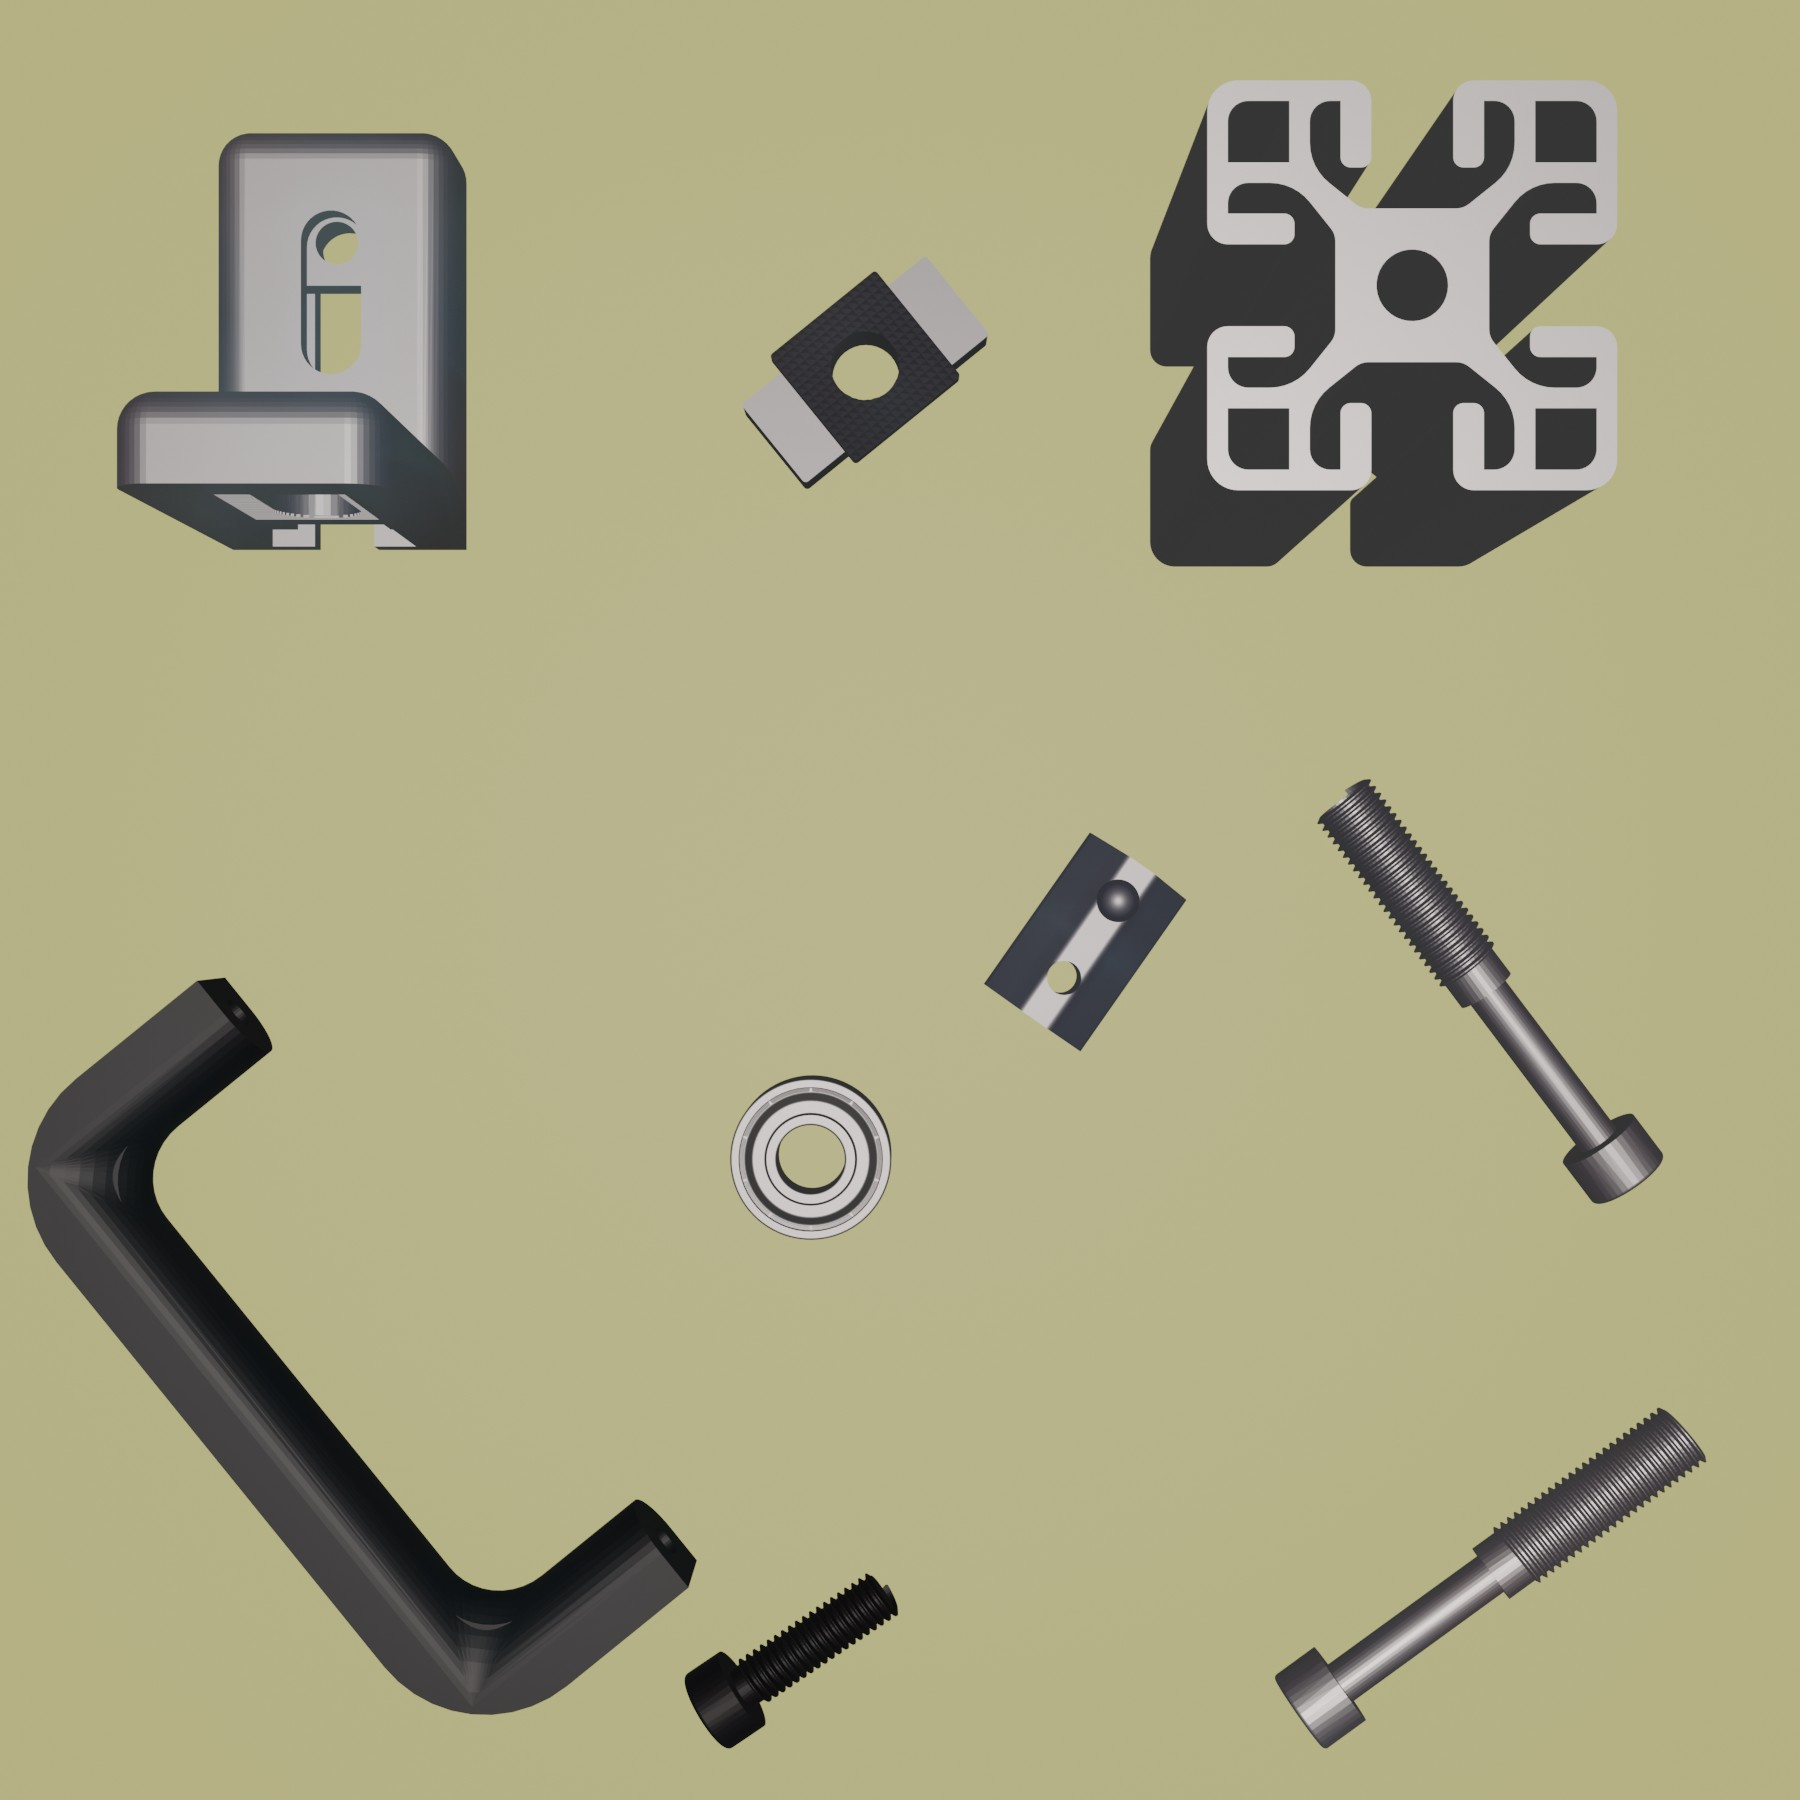Aluminium Extension: (1142, 74, 1624, 572)
Ball Bearing: (729, 1073, 893, 1241)
Multiwinkel: (114, 125, 475, 555)
Pull Handle: (25, 974, 697, 1714)
Shoulder Socket Head Cap Screw: (1273, 1404, 1709, 1754), (1310, 776, 1665, 1207)
Socket Head Cap Screw: (686, 1568, 902, 1751)
T Nut Square: (740, 249, 992, 491)
T Spring Nut: (982, 831, 1190, 1055)
